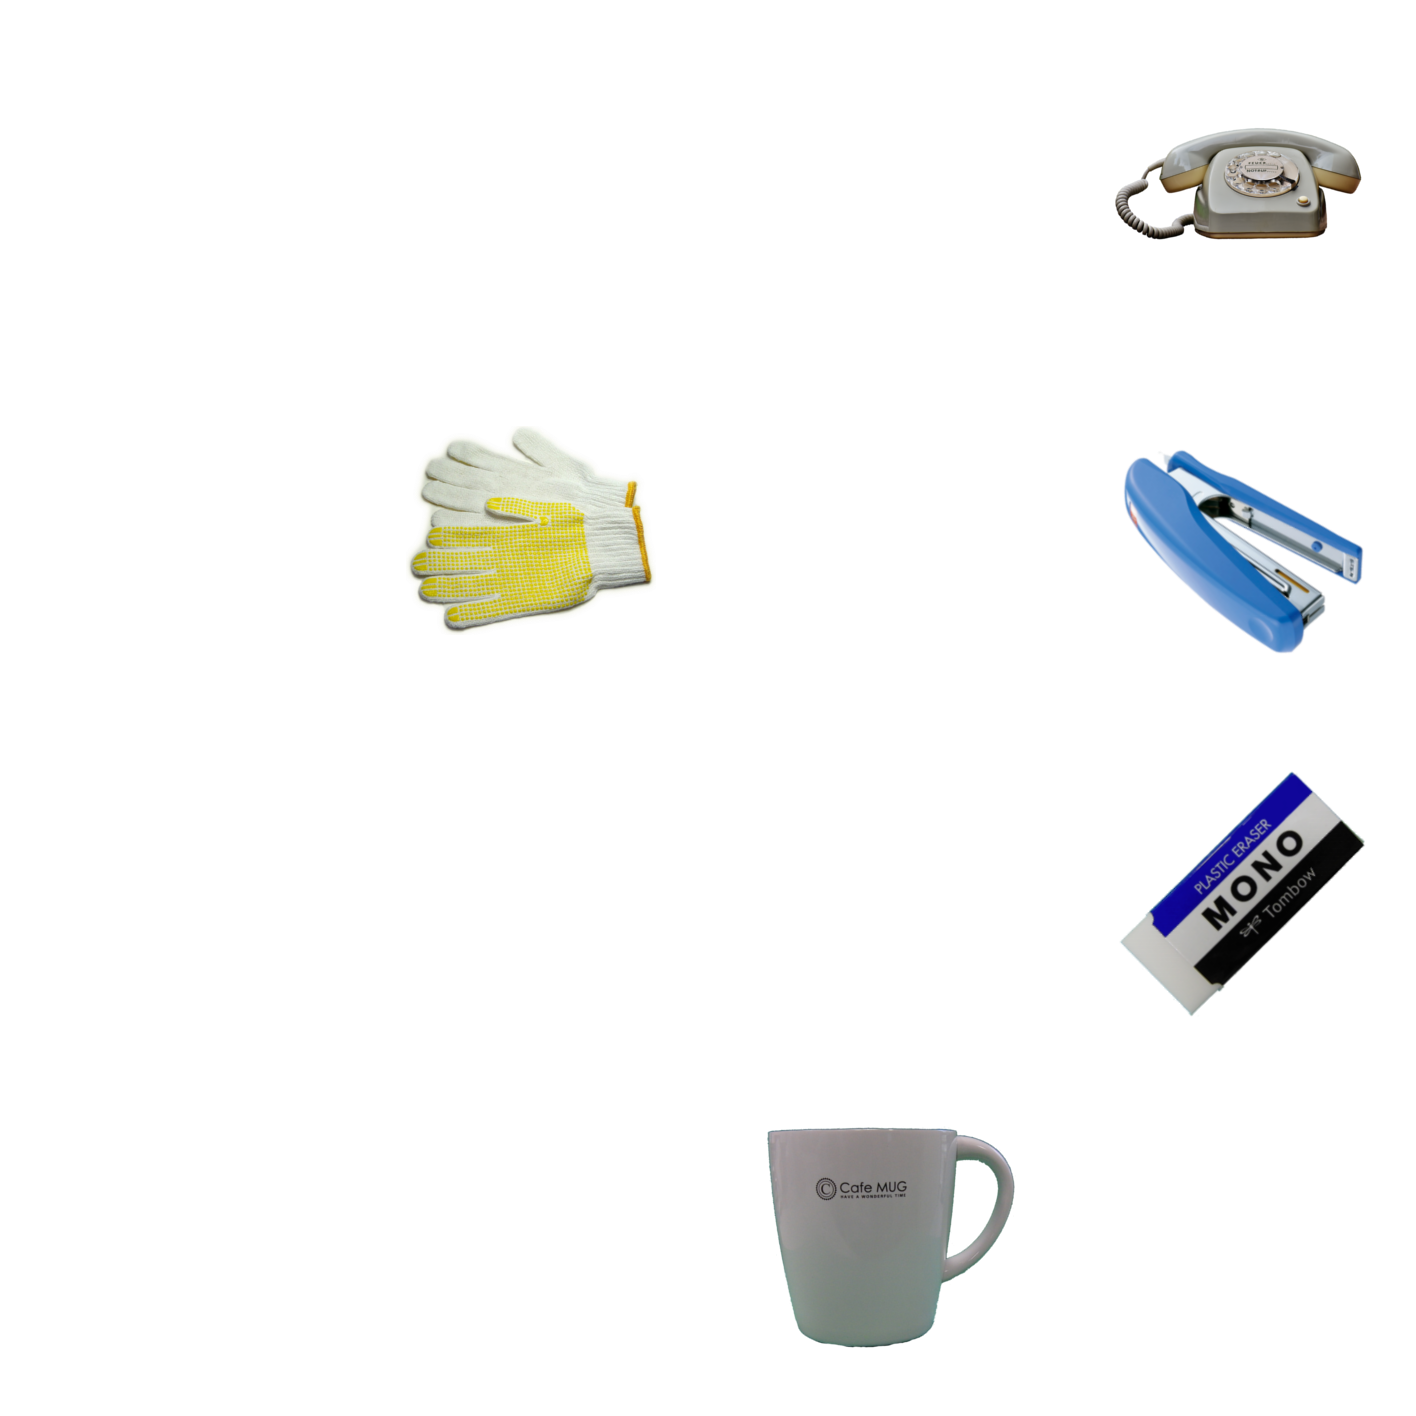Rotation: (1116, 760, 1360, 1014)
